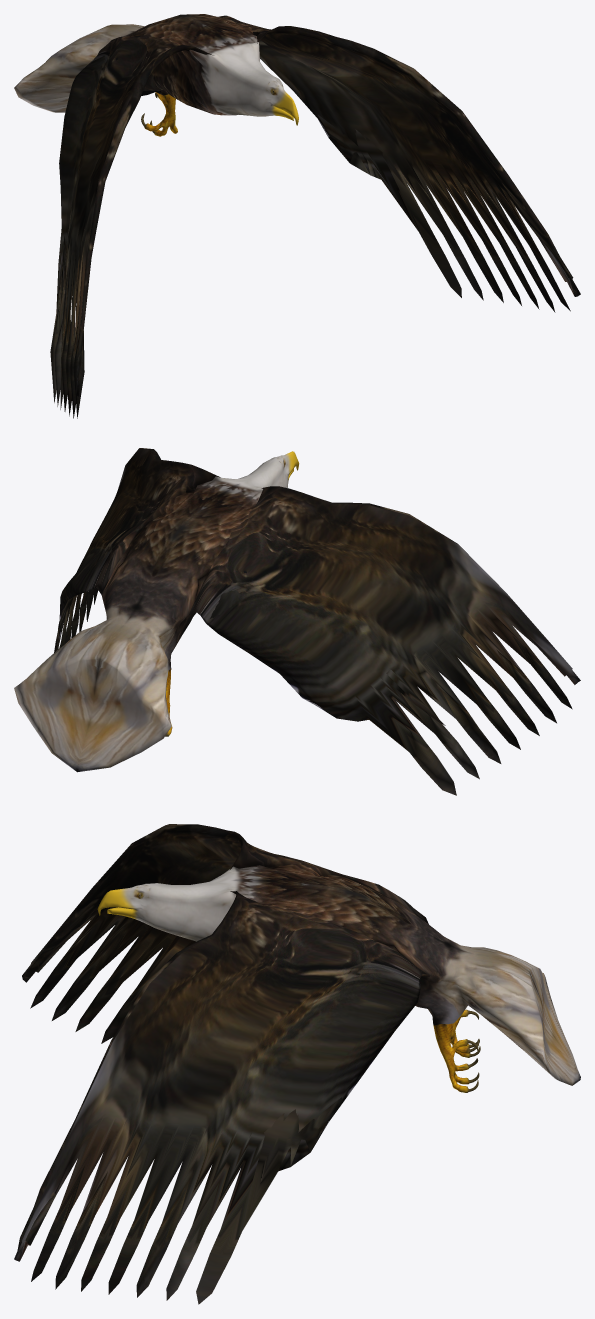
The model's file is Eagle-original_000011.obj.
3 renders of one model, top to bottom at view 1: azimuth 30°, elevation 25°; view 2: azimuth 150°, elevation 25°; view 3: azimuth 270°, elevation 25°, orthographic. The views are drawn at different scales.
Parts seen in each view (by area): view 1: Flugel_Plane.003; view 2: Flugel_Plane.003; view 3: Flugel_Plane.003.
Boxes of the visible parts, x1,y1,x2,y2 form: Flugel_Plane.003: (14,14,580,418); Flugel_Plane.003: (14,448,580,795); Flugel_Plane.003: (14,824,580,1304).
Size of the model in its own units: 7.24 by 4.17 by 6.58.
Materials: 1 (1 with a texture image).
